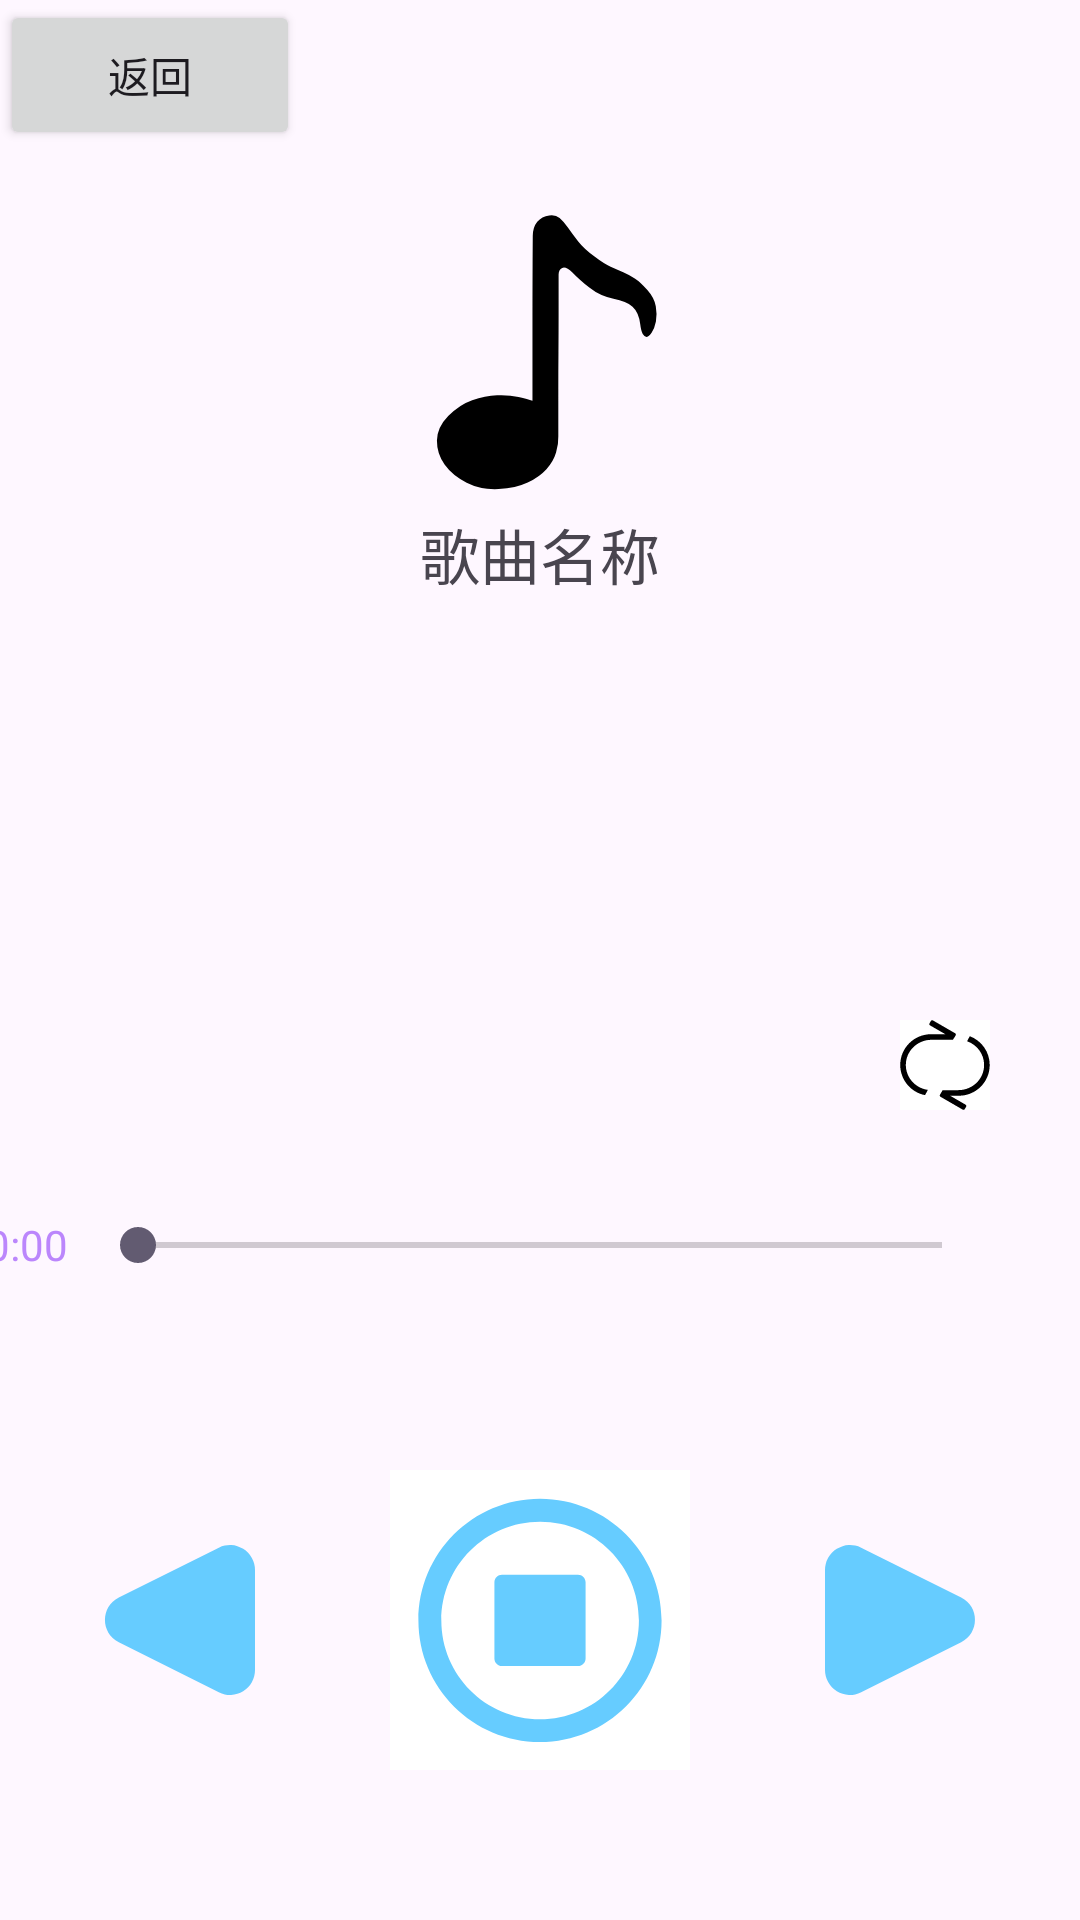

Named icons in this screenshot (1080px×1920px) and their bounding boxes, bbox=(x1, y1, x2, y2):
music: bbox=(437, 215, 657, 490)
next play: bbox=(825, 1545, 975, 1695)
pre play: bbox=(105, 1545, 255, 1695)
puase play: bbox=(418, 1498, 662, 1742)
repeat sequential: bbox=(900, 1020, 990, 1110)
